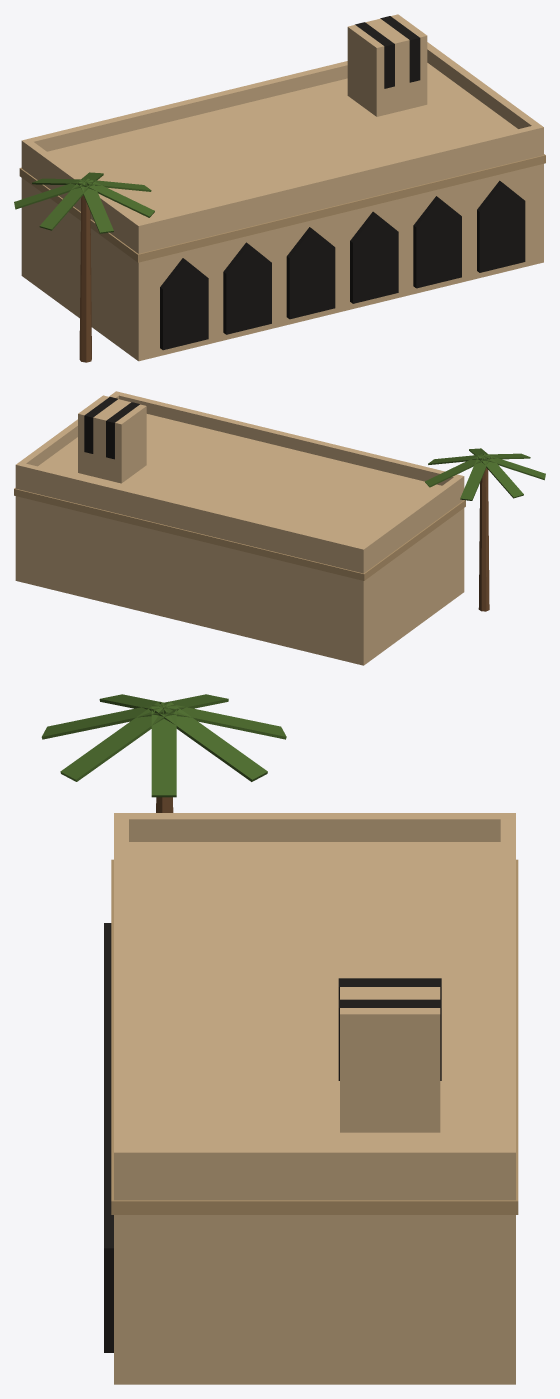
Rendered from barracks.glb.
3 views of the same model, one above another, from view 1: azimuth 30°, elevation 25°; view 2: azimuth 150°, elevation 25°; view 3: azimuth 270°, elevation 25° (orthographic). The views are drawn at different scales.
Parts seen in each view (by area): view 1: Barracks; view 2: Barracks; view 3: Barracks.
Part boxes in pixels (x1=…): Barracks: x1=14, y1=14, x2=545, y2=362; Barracks: x1=14, y1=391, x2=545, y2=665; Barracks: x1=41, y1=694, x2=518, y2=1384.
Size of the model in its own units: 19.86 by 7.2 by 9.49.
